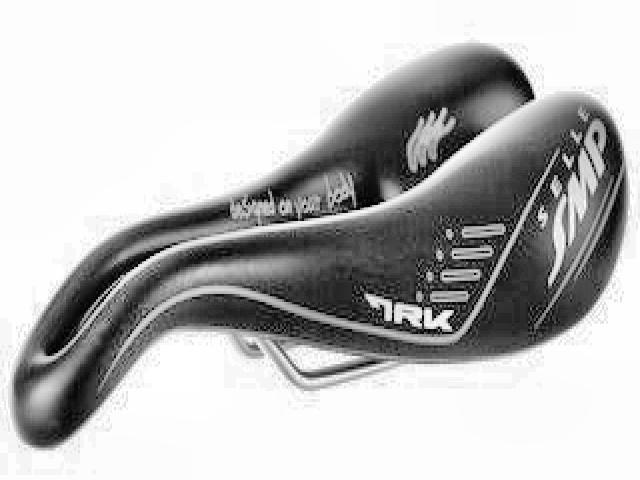saddle: (10, 37, 630, 453)
